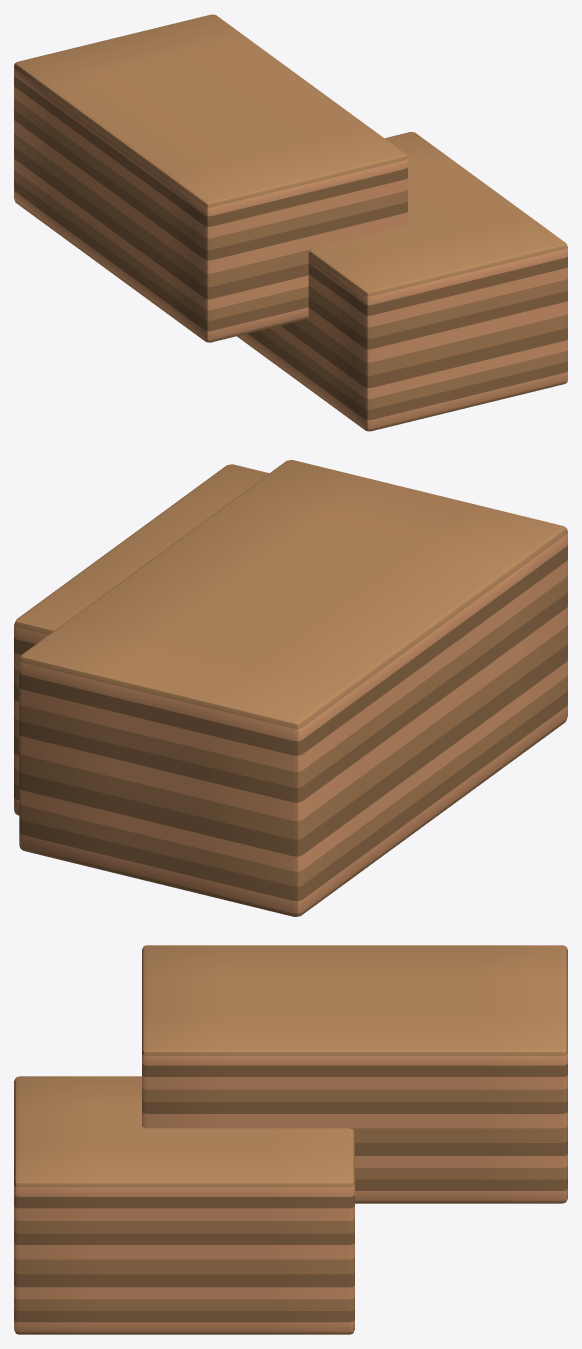
The model's file is Cube_Dirt_Side_Tall.014.fbx.
3 renders of one model, top to bottom at view 1: azimuth 30°, elevation 25°; view 2: azimuth 150°, elevation 25°; view 3: azimuth 270°, elevation 25°, orthographic. The views are drawn at different scales.
Parts seen in each view (by area): view 1: Cube_Dirt_Side_Tall.014; view 2: Cube_Dirt_Side_Tall.014; view 3: Cube_Dirt_Side_Tall.014.
Part boxes in pixels (left/top/right/bottom): Cube_Dirt_Side_Tall.014: left=14, top=14, right=567, bottom=431; Cube_Dirt_Side_Tall.014: left=14, top=460, right=567, bottom=916; Cube_Dirt_Side_Tall.014: left=14, top=945, right=567, bottom=1334.
Size of the model in its own units: 900 by 600 by 1300.
